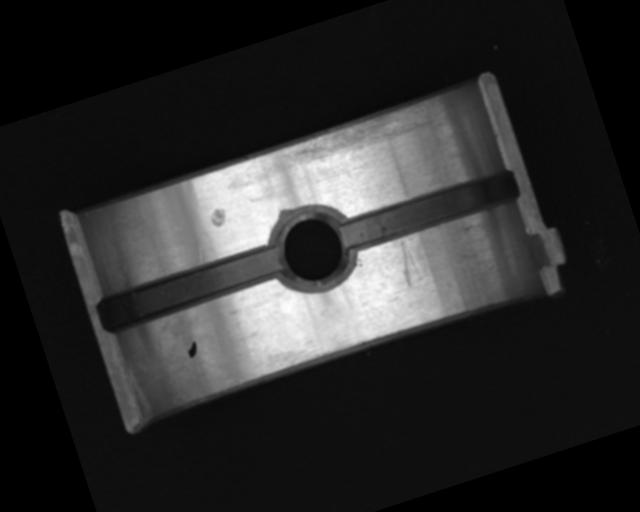blot: (184, 340, 201, 359)
bruise: (206, 206, 229, 230)
gap: (93, 239, 290, 335), (340, 164, 522, 254)
hole: (262, 195, 365, 302)
nick: (390, 233, 425, 291)
scratch: (269, 94, 443, 177)
